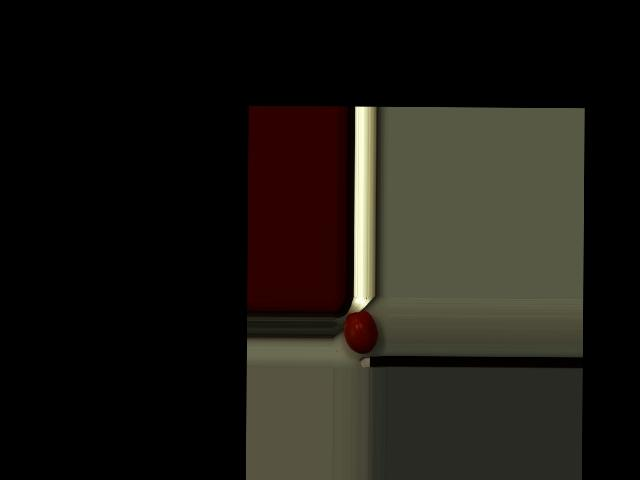tomato: (343, 310, 378, 353)
